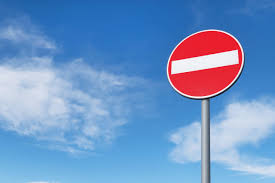No entry: (166, 29, 244, 99)
